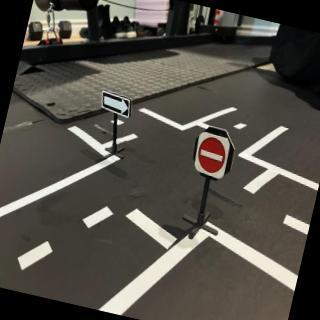sign_noentry: (191, 132, 234, 181)
sign_oneway_right: (99, 92, 135, 120)
